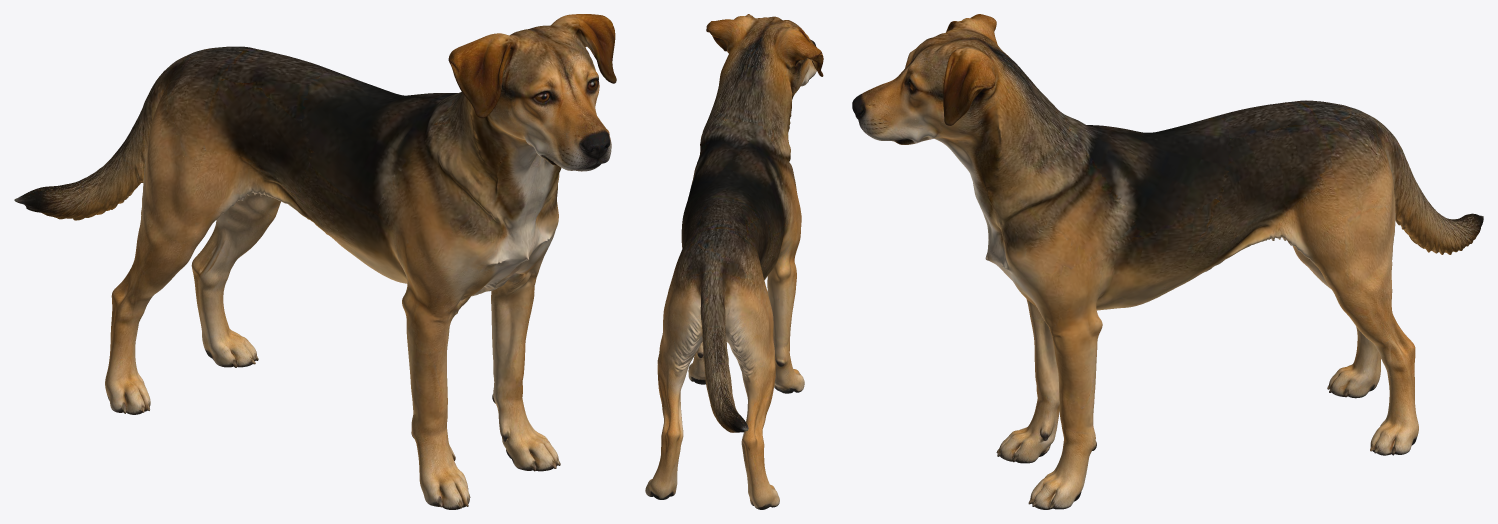
File: dog-light.glb
3 renders of one model, left to right at view 1: azimuth 30°, elevation 25°; view 2: azimuth 150°, elevation 25°; view 3: azimuth 270°, elevation 25°, orthographic. The views are drawn at different scales.
Visible parts, largest first — view 1: dog; view 2: dog; view 3: dog.
Part boxes in pixels (box(x1,y1,x2,y2)): dog: box(14, 14, 616, 509); dog: box(645, 14, 823, 509); dog: box(852, 14, 1483, 509).
Bounding box in the file's own units: 0.5291 × 0.7448 × 0.9499.
1 material, 1 textured.
